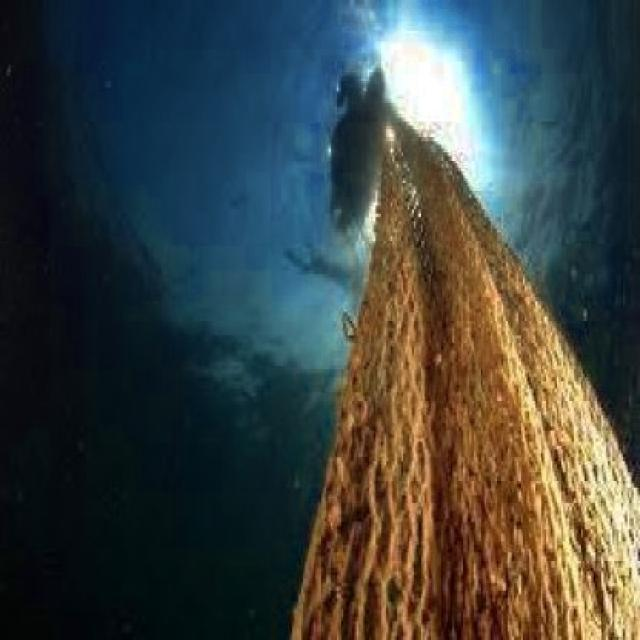net: (298, 132, 640, 640)
